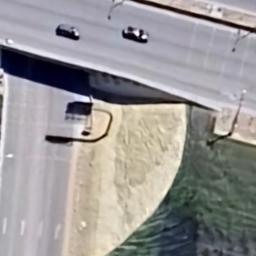sedan: (122, 22, 154, 46)
van: (52, 20, 82, 44)
